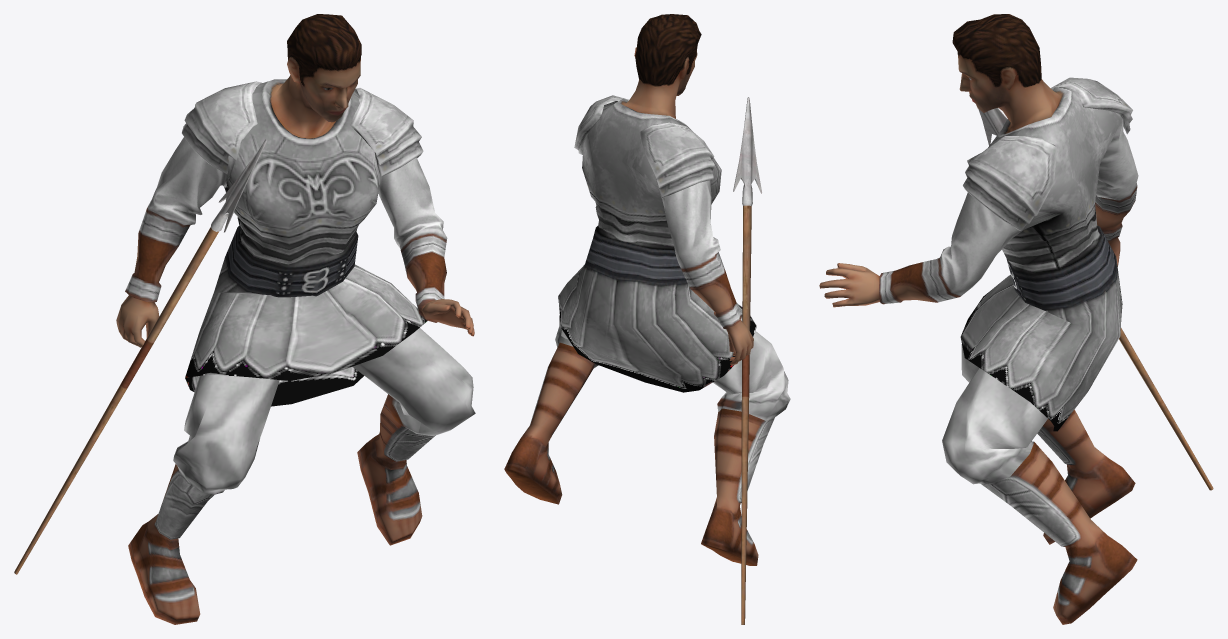
The model's file is rider-slice-championarchers.glb.
3 views of the same model, side by side, from view 1: azimuth 30°, elevation 25°; view 2: azimuth 150°, elevation 25°; view 3: azimuth 270°, elevation 25° (orthographic). The views are drawn at different scales.
Size of the model in its own units: 1.13 by 1.93 by 1.2.
2 materials, 2 textured.
